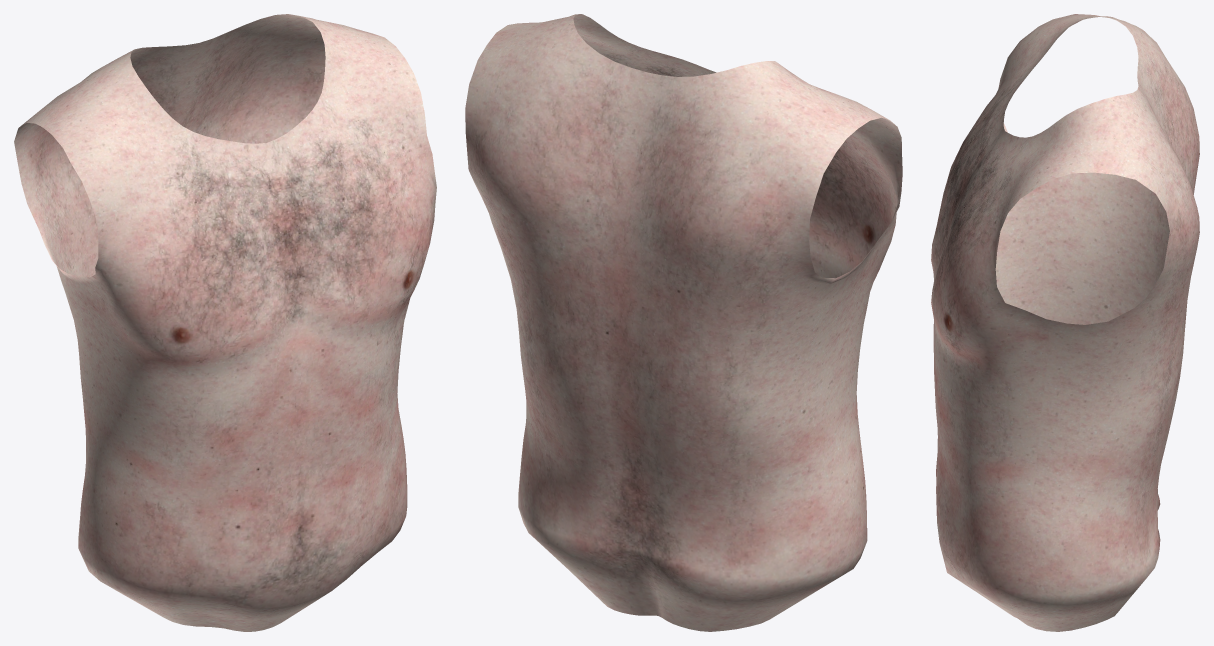
Rendered from torso.glb.
3 renders of one model, left to right at view 1: azimuth 30°, elevation 25°; view 2: azimuth 150°, elevation 25°; view 3: azimuth 270°, elevation 25°, orthographic. The views are drawn at different scales.
Parts seen in each view (by area): view 1: torso; view 2: torso; view 3: torso.
Part boxes in pixels (x1=…): torso: x1=14, y1=14, x2=436, y2=631; torso: x1=465, y1=14, x2=902, y2=631; torso: x1=931, y1=14, x2=1199, y2=631.
Bounding box in the file's own units: 0.4204 × 0.6478 × 0.2865.
1 material, 1 textured.
